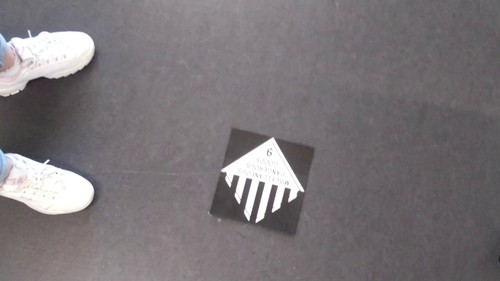misgoods: (221, 137, 307, 225)
